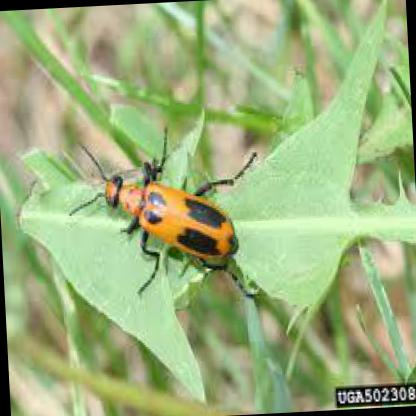blister beetle: (70, 125, 253, 291)
